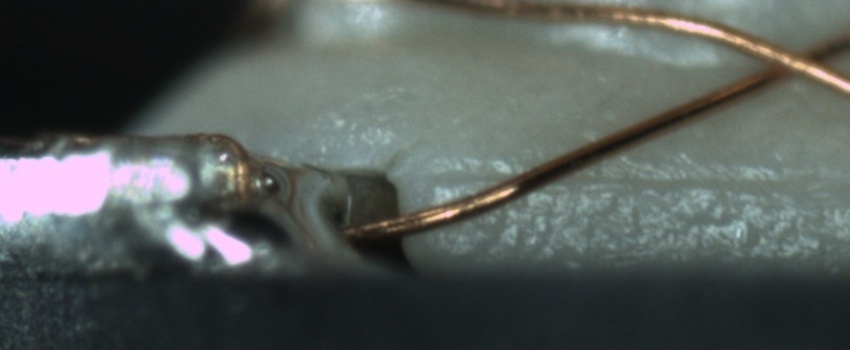CL: (738, 25, 845, 92)
DL: (432, 152, 849, 211)
TE: (191, 128, 256, 204)
